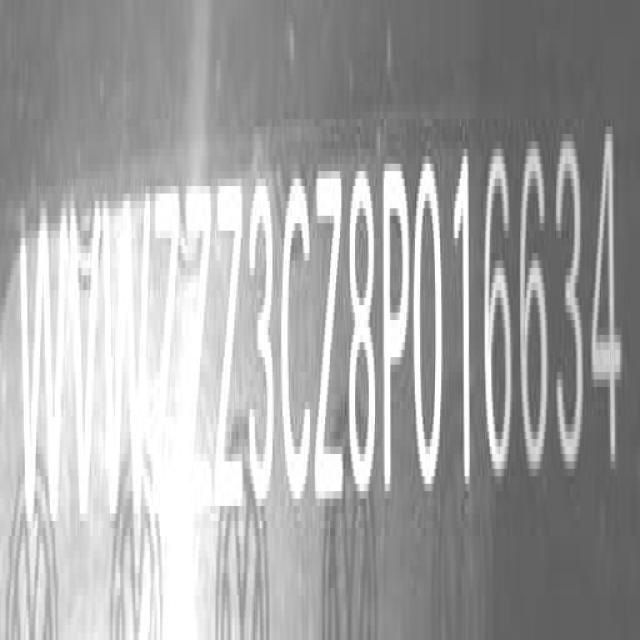0: (415, 151, 445, 500)
1: (454, 146, 475, 492)
3: (553, 129, 584, 483), (250, 163, 276, 512)
4: (592, 119, 626, 480)
6: (481, 143, 513, 486), (521, 137, 551, 485)
8: (348, 160, 378, 506)
C: (282, 160, 314, 517)
P: (383, 155, 413, 500)
V: (68, 207, 102, 526)
W: (102, 185, 154, 515), (20, 208, 70, 532)
Z: (213, 170, 244, 516), (184, 174, 213, 524), (314, 152, 342, 514), (154, 174, 180, 507)
